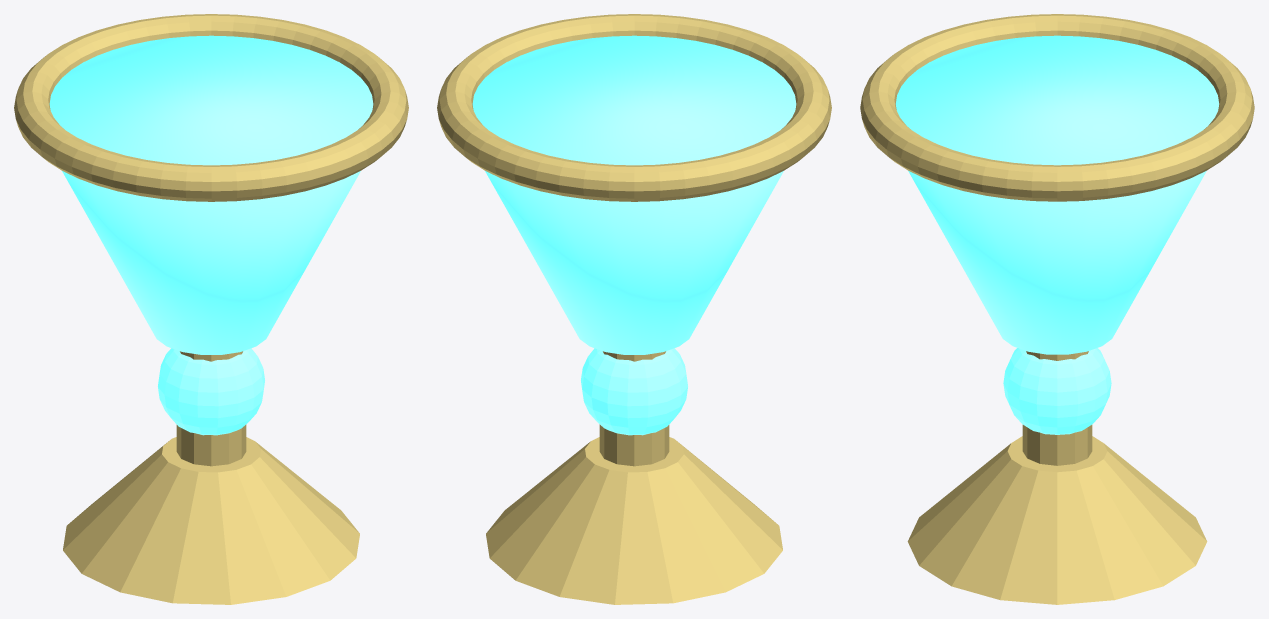
Rendered from item_chalice.glb.
3 renders of one model, left to right at view 1: azimuth 30°, elevation 25°; view 2: azimuth 150°, elevation 25°; view 3: azimuth 270°, elevation 25°, orthographic.
Parts seen in each view (by area): view 1: ChaliceBowl, ChaliceFoot, ChaliceRim, ChaliceKnob, ChaliceStem; view 2: ChaliceBowl, ChaliceFoot, ChaliceRim, ChaliceKnob, ChaliceStem; view 3: ChaliceBowl, ChaliceFoot, ChaliceRim, ChaliceKnob, ChaliceStem.
Part boxes in pixels (x1,y1,x2,y2): ChaliceBowl: (49,35,373,354); ChaliceFoot: (63,437,359,604); ChaliceRim: (14,14,408,201); ChaliceKnob: (158,348,264,435); ChaliceStem: (176,351,246,466); ChaliceBowl: (472,35,796,354); ChaliceFoot: (486,437,782,604); ChaliceRim: (437,14,831,201); ChaliceKnob: (581,348,687,435); ChaliceStem: (599,351,669,466); ChaliceBowl: (895,35,1219,354); ChaliceFoot: (907,436,1207,604); ChaliceRim: (860,14,1254,201); ChaliceKnob: (1003,348,1111,434); ChaliceStem: (1022,351,1092,465).
Bounding box in the file's own units: 0.4764 × 0.6 × 0.4764.
